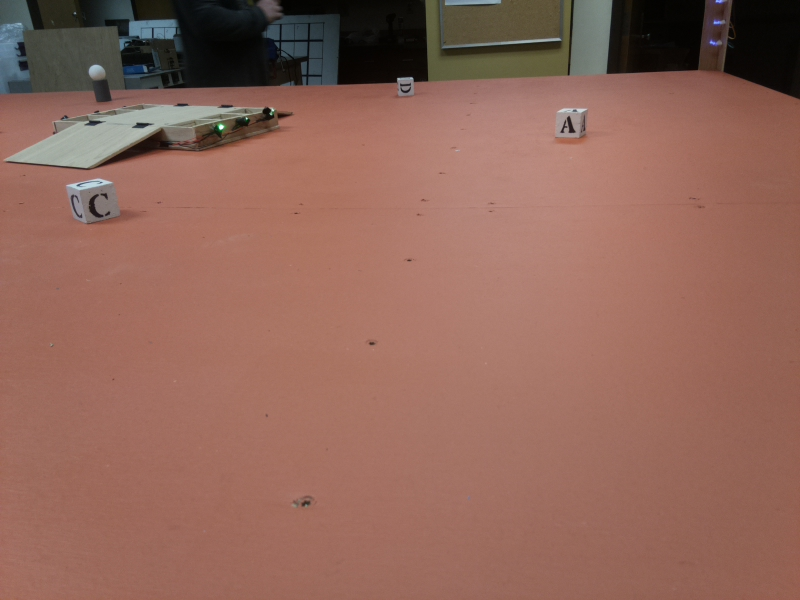blockA: (556, 102, 589, 141)
blockC: (66, 179, 122, 223)
blockD: (392, 75, 415, 95)
corner: (696, 1, 732, 77)
obstacle: (88, 63, 113, 102)
side: (158, 102, 279, 155)
slope: (6, 123, 162, 167), (270, 109, 296, 121)
